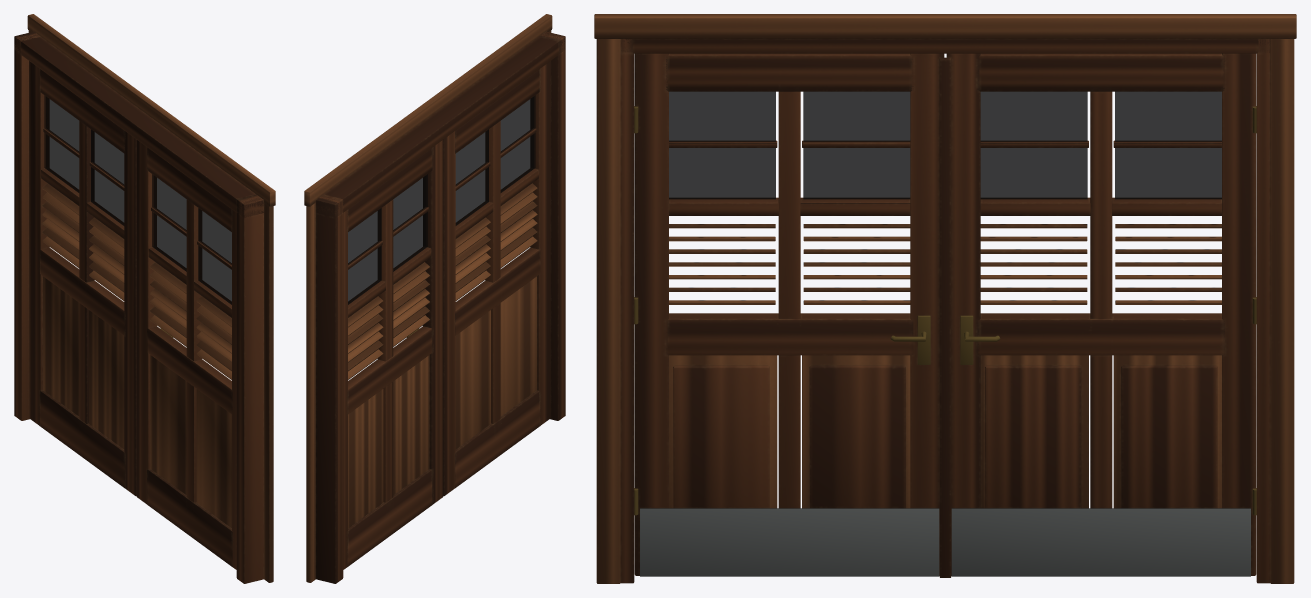
The model's file is CTCC_LOC02_S1Door.fbx.
The picture shows the model from 3 angles, left to right: view 1: azimuth 30°, elevation 25°; view 2: azimuth 150°, elevation 25°; view 3: azimuth 270°, elevation 25°; orthographic projection. The views are drawn at different scales.
Visible parts, largest first — view 1: CTCC_LOC02_S1Door_LOD0; view 2: CTCC_LOC02_S1Door_LOD0; view 3: CTCC_LOC02_S1Door_LOD0.
Part boxes in pixels (left/top/right/bottom): CTCC_LOC02_S1Door_LOD0: left=14, top=14, right=275, bottom=583; CTCC_LOC02_S1Door_LOD0: left=304, top=14, right=565, bottom=583; CTCC_LOC02_S1Door_LOD0: left=594, top=14, right=1296, bottom=583.
Size of what is drawn, in the model's own units: 0.1775 by 2.5 by 2.8.
